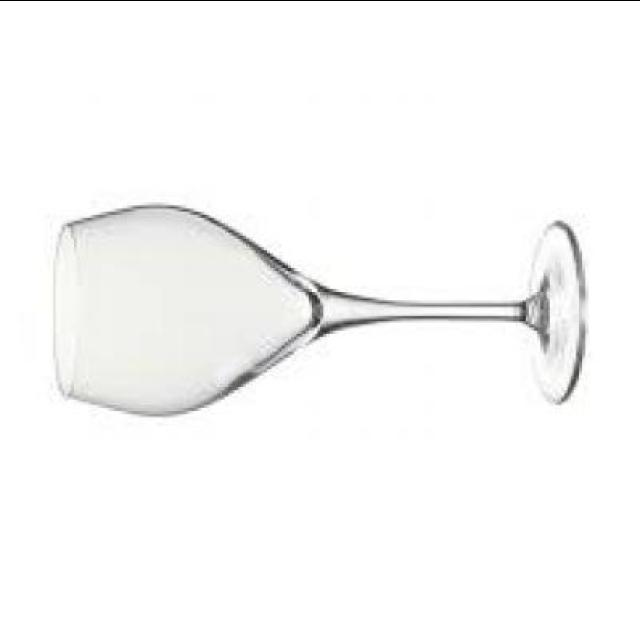kaca: (49, 204, 586, 413)
